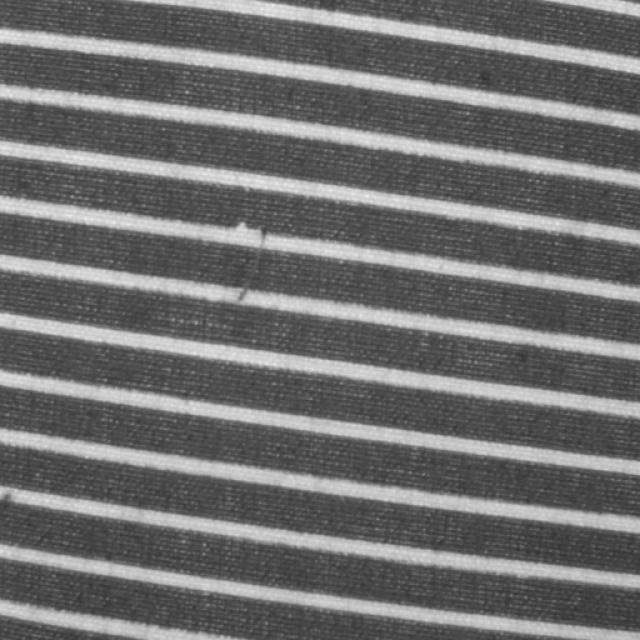Thread-Defect: (218, 221, 268, 304)
